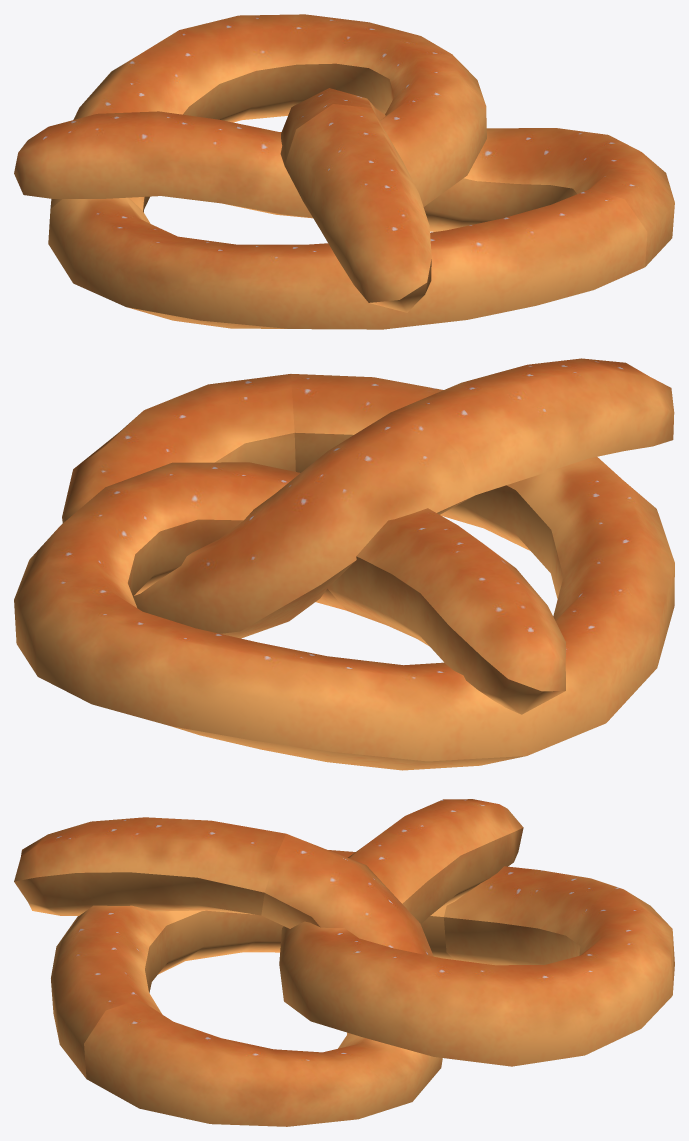
Rendered from Pretzel.fbx.
3 views of the same model, one above another, from view 1: azimuth 30°, elevation 25°; view 2: azimuth 150°, elevation 25°; view 3: azimuth 270°, elevation 25° (orthographic). The views are drawn at different scales.
Visible parts, largest first — view 1: Pretzel_1; view 2: Pretzel_1; view 3: Pretzel_1.
Part boxes in pixels (<box>): Pretzel_1: <box>14,14,674,329</box>; Pretzel_1: <box>14,358,674,770</box>; Pretzel_1: <box>14,799,674,1126</box>.
Size of the model in its own units: 56.91 by 21.21 by 63.98.
1 material, 1 textured.
